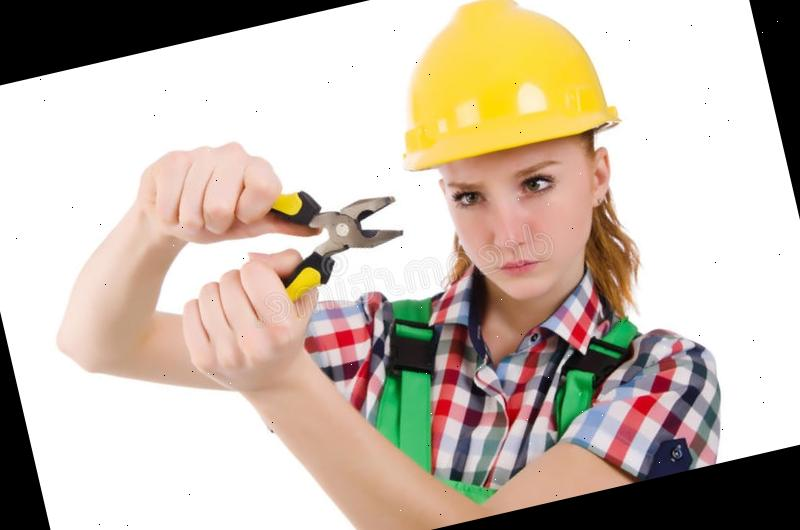helmet: (366, 0, 629, 176)
no_wear: (310, 257, 744, 530)
